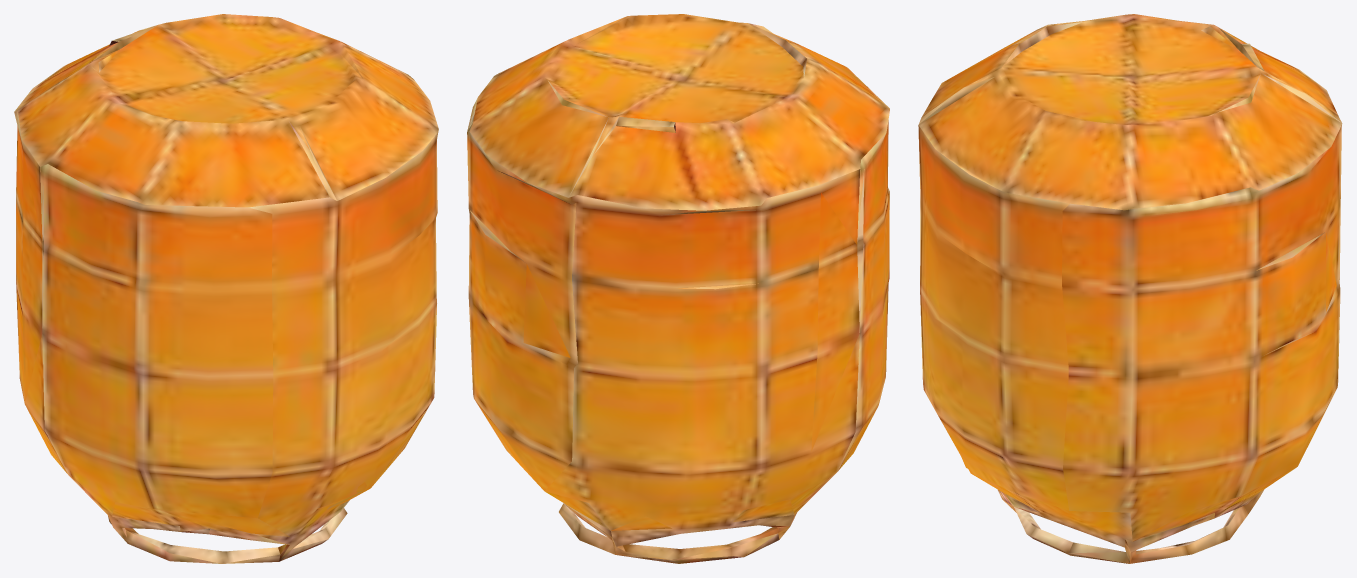
The model's file is lantern_sky_lo.glb.
3 renders of one model, left to right at view 1: azimuth 30°, elevation 25°; view 2: azimuth 150°, elevation 25°; view 3: azimuth 270°, elevation 25°, orthographic.
Parts seen in each view (by area): view 1: lantern_sky; view 2: lantern_sky; view 3: lantern_sky.
Boxes of the visible parts, bbox=[...] form: lantern_sky: bbox=[14, 14, 438, 563]; lantern_sky: bbox=[467, 14, 889, 563]; lantern_sky: bbox=[918, 14, 1342, 563].
Bounding box in the file's own units: 0.5994 × 0.7001 × 0.6006.
Materials: 1 (1 with a texture image).
